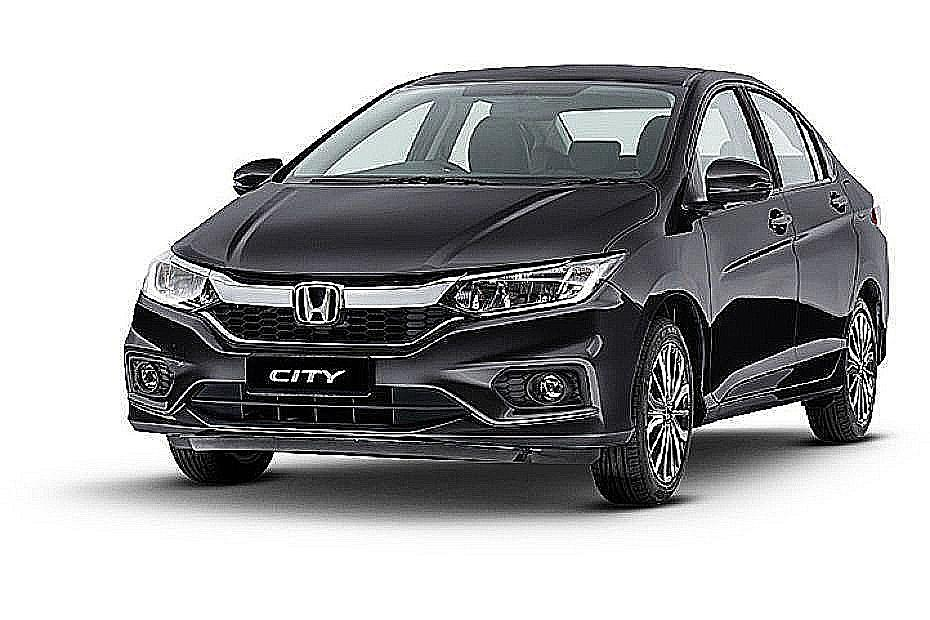Car hood: (169, 173, 664, 286)
Fender - -F-L-: (600, 172, 719, 415)
Front bumper: (118, 284, 661, 468)
Headlight - -L-: (438, 245, 634, 335)
Headlight - -R-: (131, 240, 227, 323)
Passenger-s door - -F-L-: (698, 73, 800, 406)
Passenger-s door - -R-L-: (748, 74, 863, 405)
Side bumper - -L-: (693, 345, 850, 427)
Side mirror - -L-: (693, 150, 780, 218)
Side mirror - -R-: (228, 151, 290, 204)
